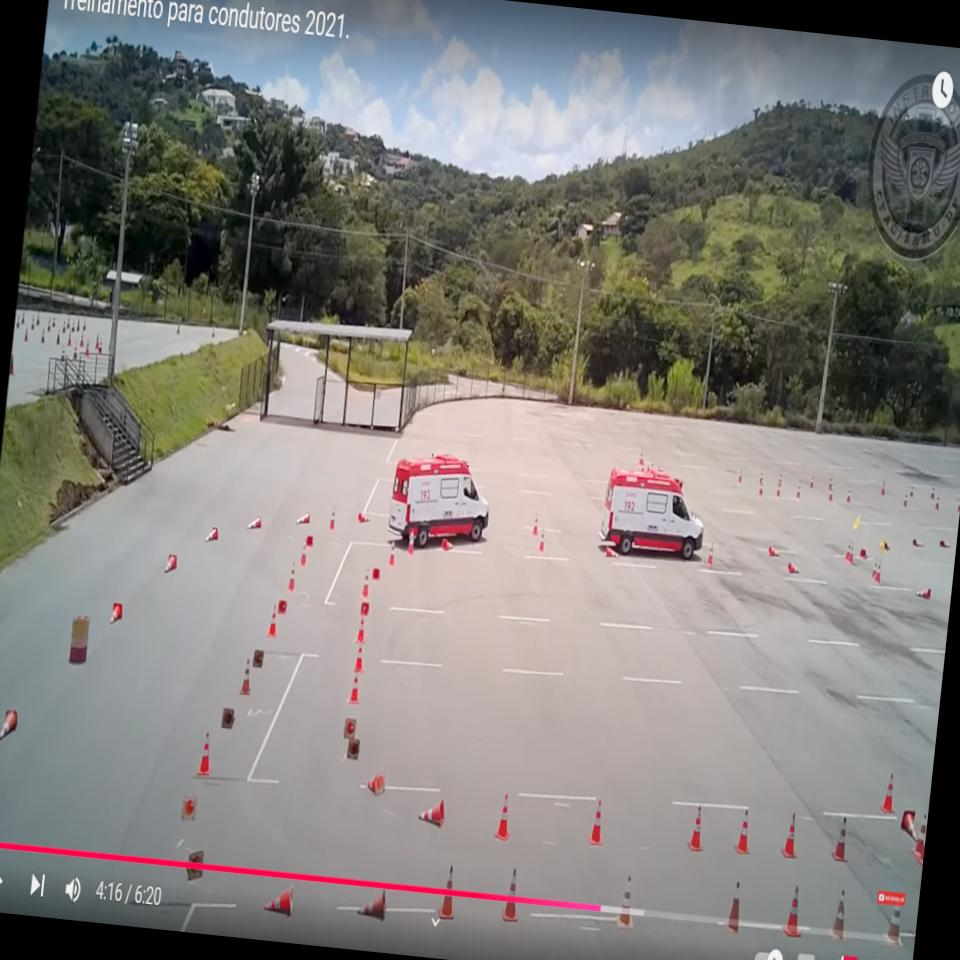bombeiro: (385, 446, 497, 552), (598, 464, 712, 562)
